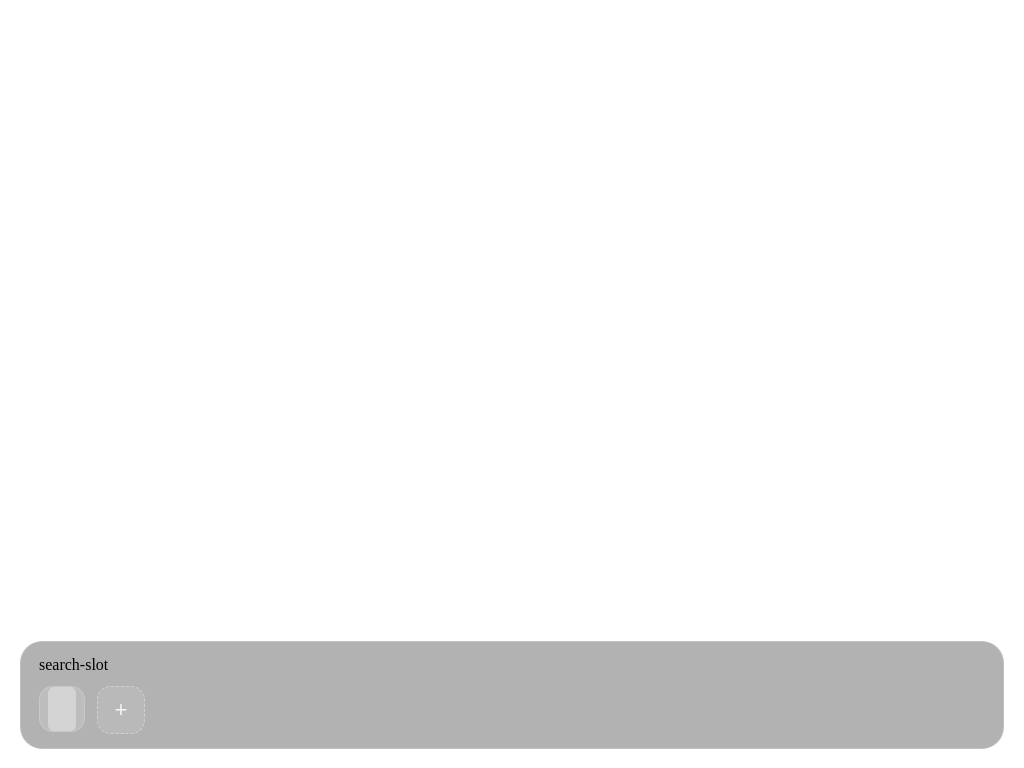
Test case: ShortcutDock 右键菜单（0003 改善 1/2） › 右键快捷方式弹出菜单，「编辑」回调携带该快捷方式
Right-click the link named "示例站": (62, 709) [39, 686, 85, 732]
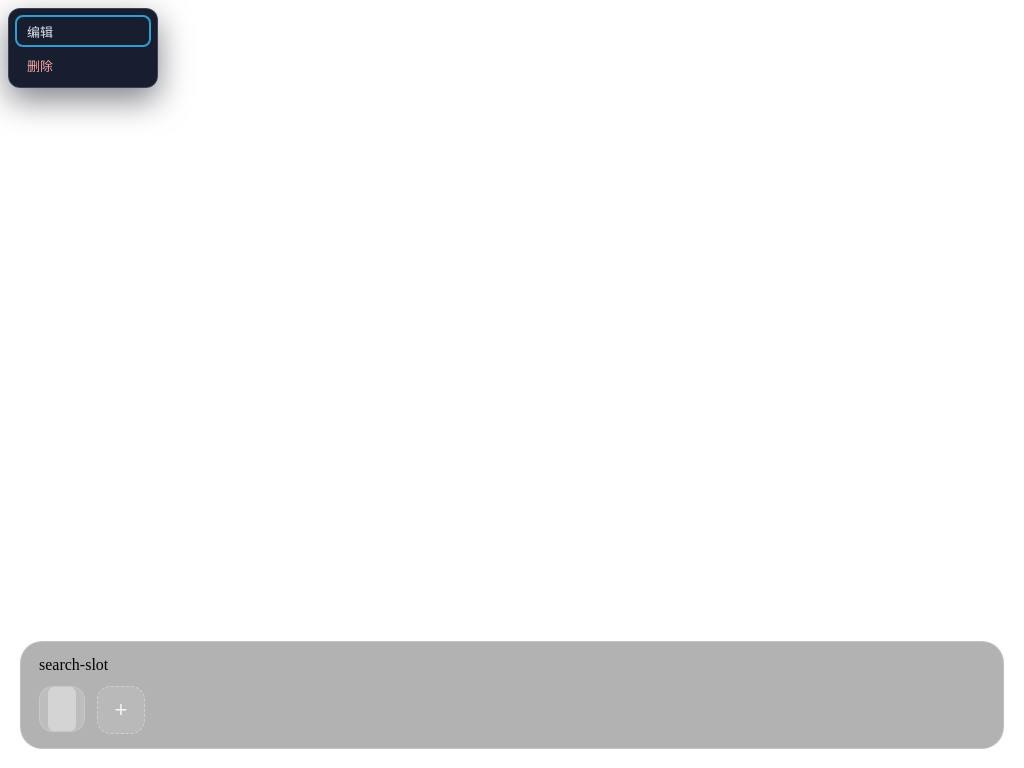
Check: the menu named "快捷操作" shows "编辑"
Click the menu item "编辑": (83, 31) [15, 15, 151, 47]
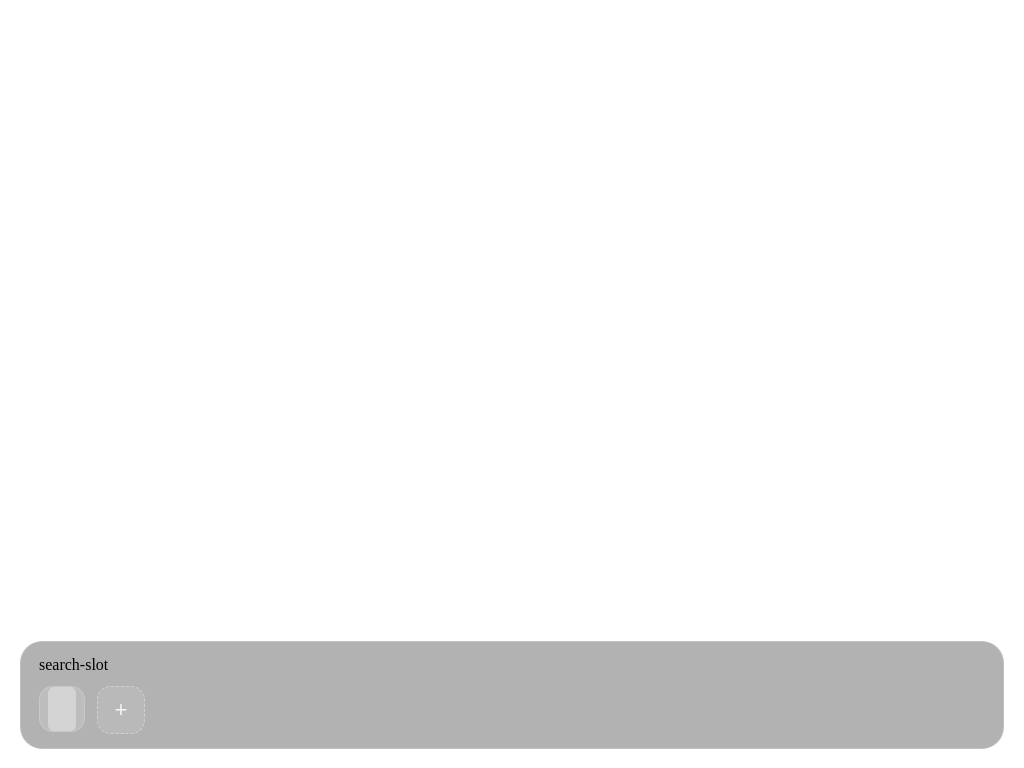
Check: the menu is gone
